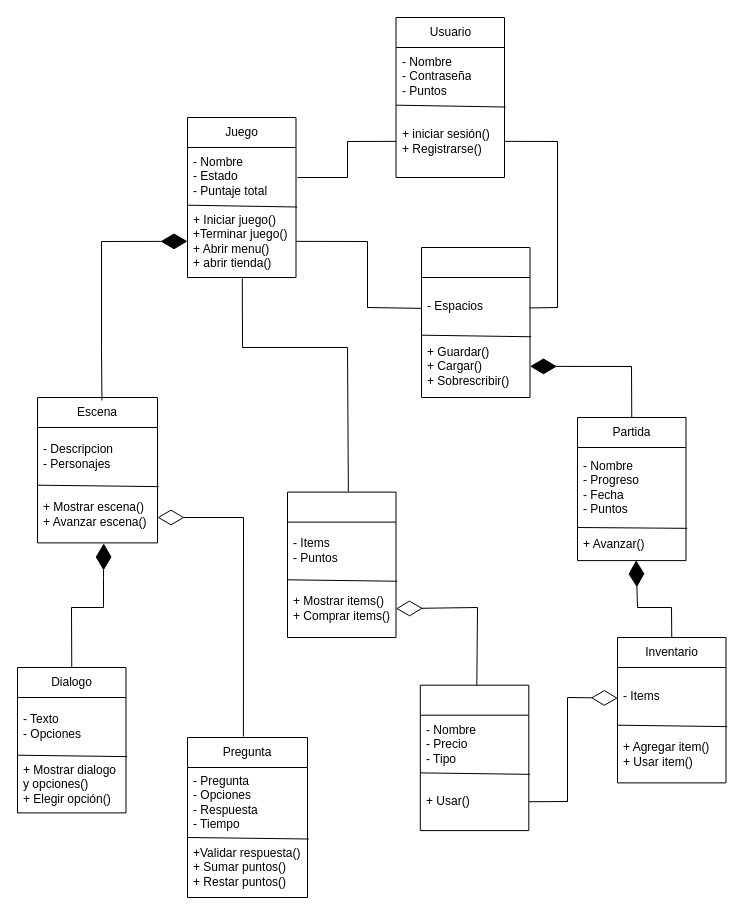
This 746x915 diagram has some shape labels left out. The box of each missing label's shape, as (x1, y1, x2, y2) in pixels:
Guardado: (420, 246, 530, 398)
Item: (419, 684, 529, 831)
Tienda: (286, 491, 396, 638)
